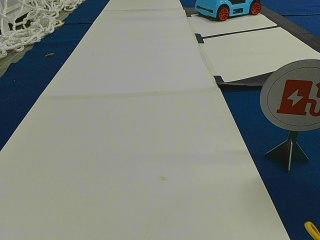battery: (260, 60, 318, 132)
car: (196, 0, 258, 20)
